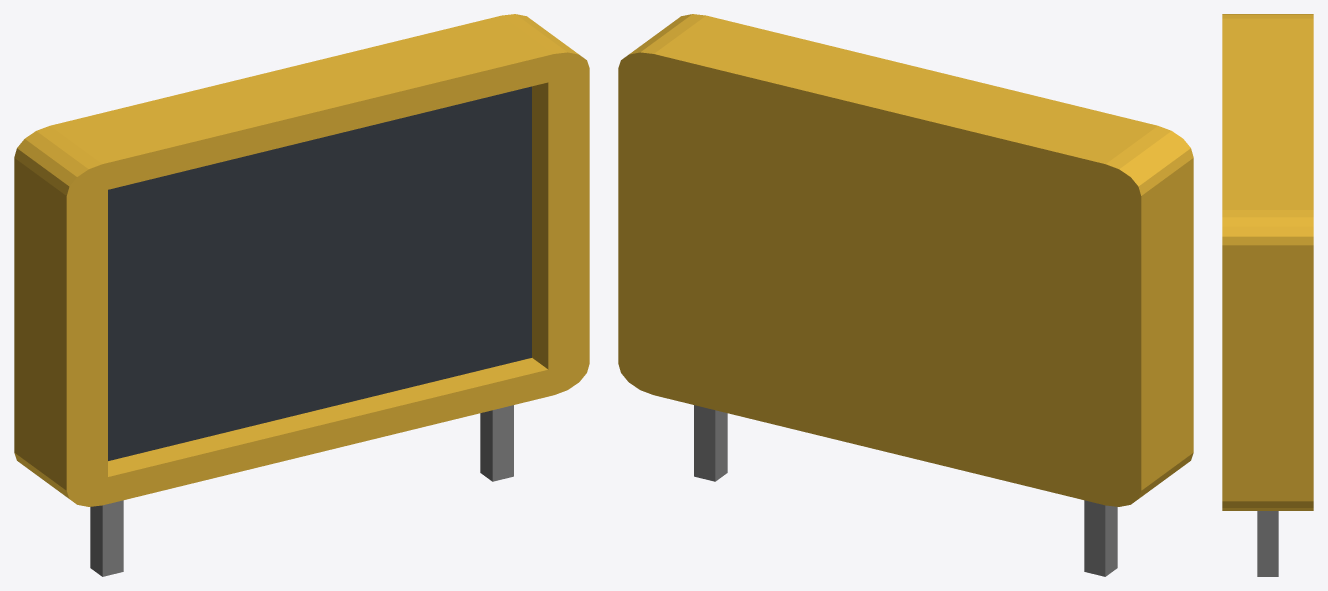
The model's file is signboard.glb.
The picture shows the model from 3 angles, left to right: view 1: azimuth 30°, elevation 25°; view 2: azimuth 150°, elevation 25°; view 3: azimuth 270°, elevation 25°; orthographic projection. The views are drawn at different scales.
Visible parts, largest first — view 1: Cube, Cube.001, Cube.002; view 2: Cube, Cube.001, Cube.002; view 3: Cube, Cube.002.
Boxes of the visible parts, box(x1,y1,x2,y2) form: Cube: box(14, 14, 589, 506); Cube.001: box(90, 500, 123, 576); Cube.002: box(480, 405, 513, 481); Cube: box(618, 14, 1193, 506); Cube.001: box(1084, 500, 1117, 576); Cube.002: box(694, 405, 727, 481); Cube: box(1222, 14, 1313, 510); Cube.002: box(1257, 511, 1278, 576).
Bounding box in the file's own units: 11.5 × 9.08 × 2.
